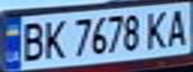6: (90, 12, 112, 55)
7: (66, 15, 93, 57), (106, 11, 127, 54)
8: (121, 11, 145, 52)
A: (163, 4, 193, 47)
B: (15, 19, 48, 62)
K: (39, 16, 69, 61), (142, 7, 172, 51)
